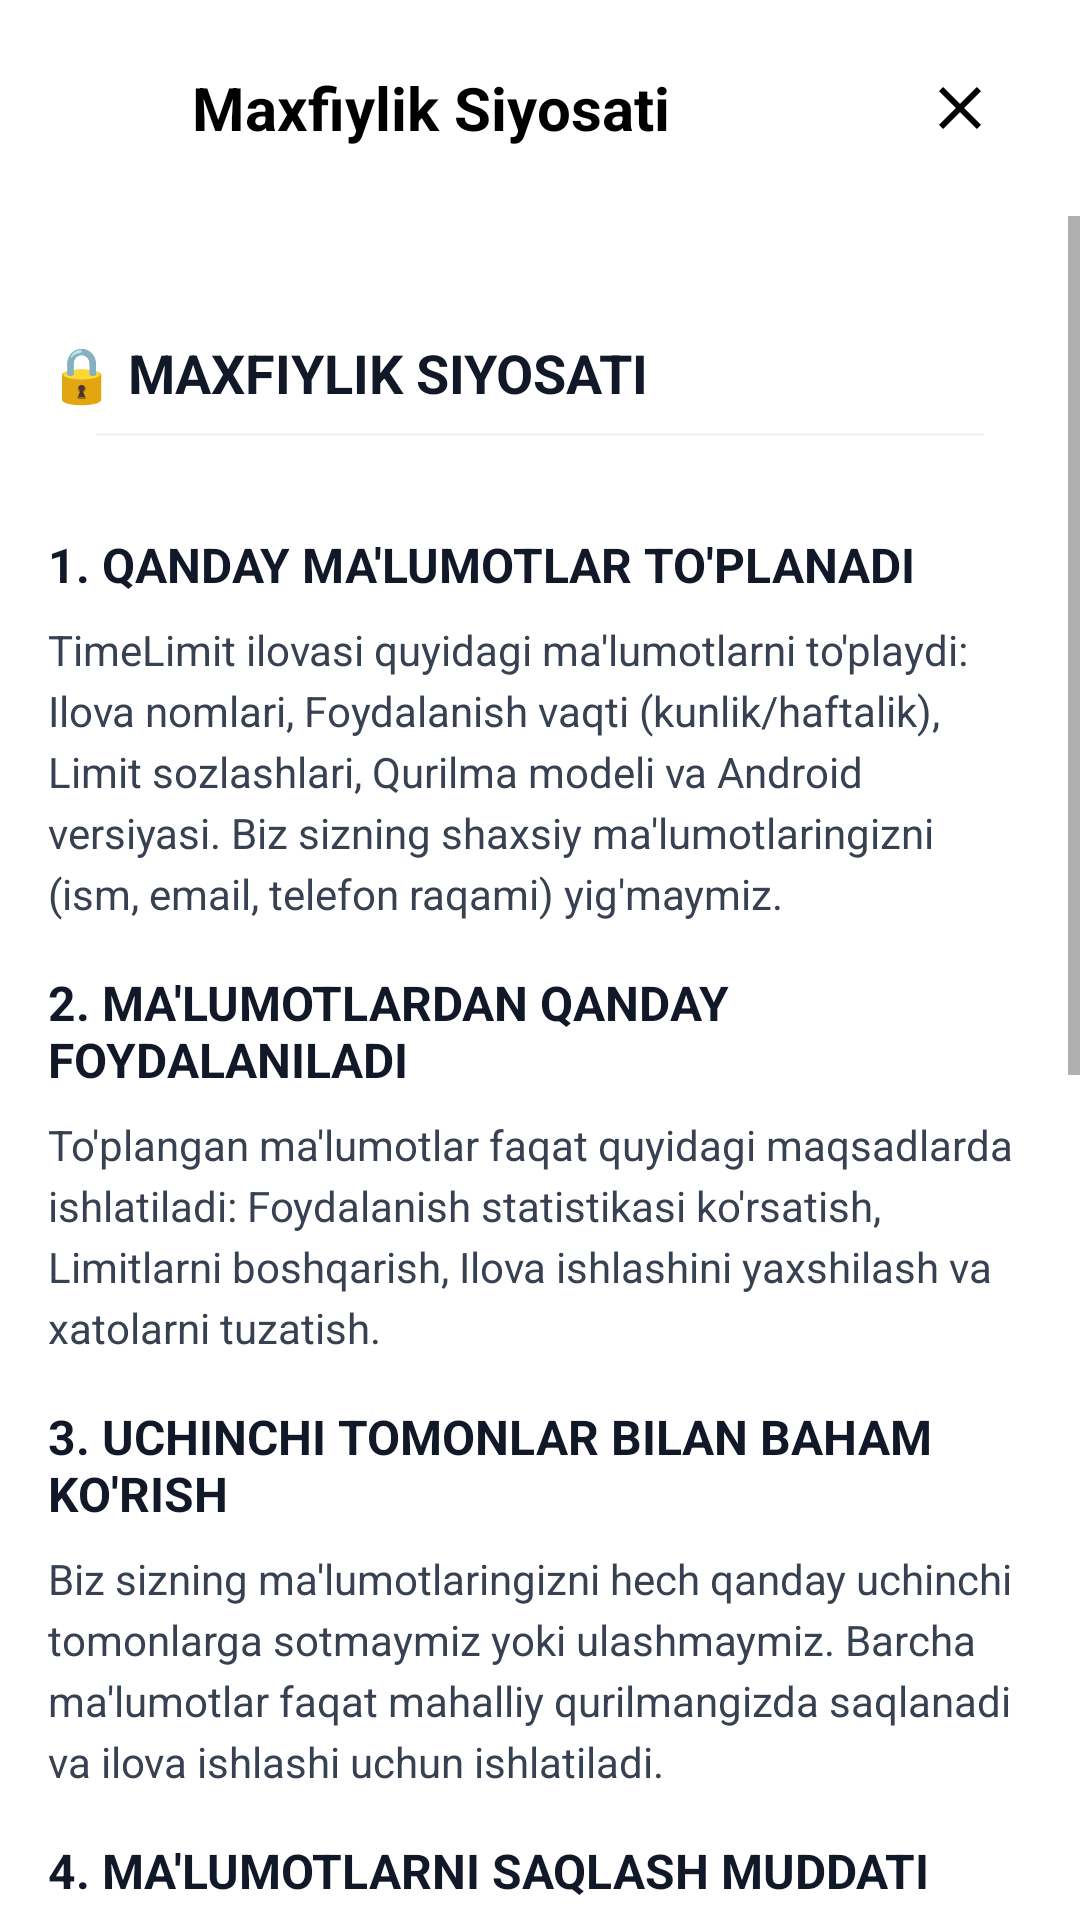

Named icons in this screenshot (1080px×1920px) and their bounding boxes, region(x1, y1, x2, y2):
close: region(939, 87, 981, 129)
